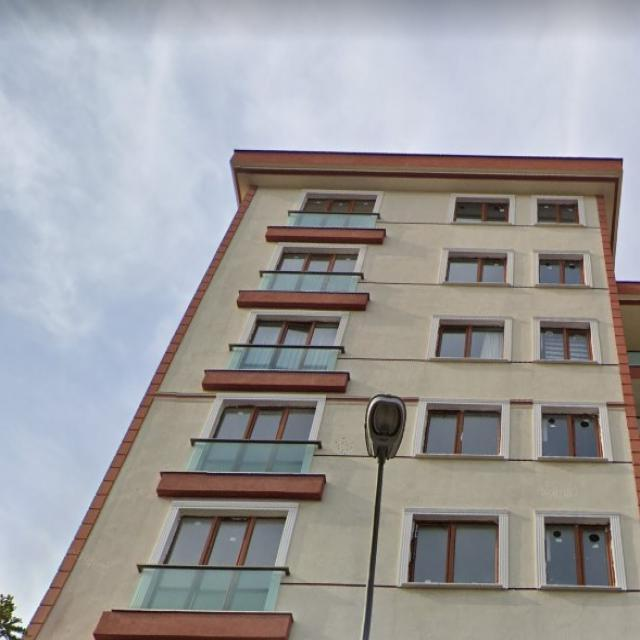Building: (16, 152, 640, 640)
